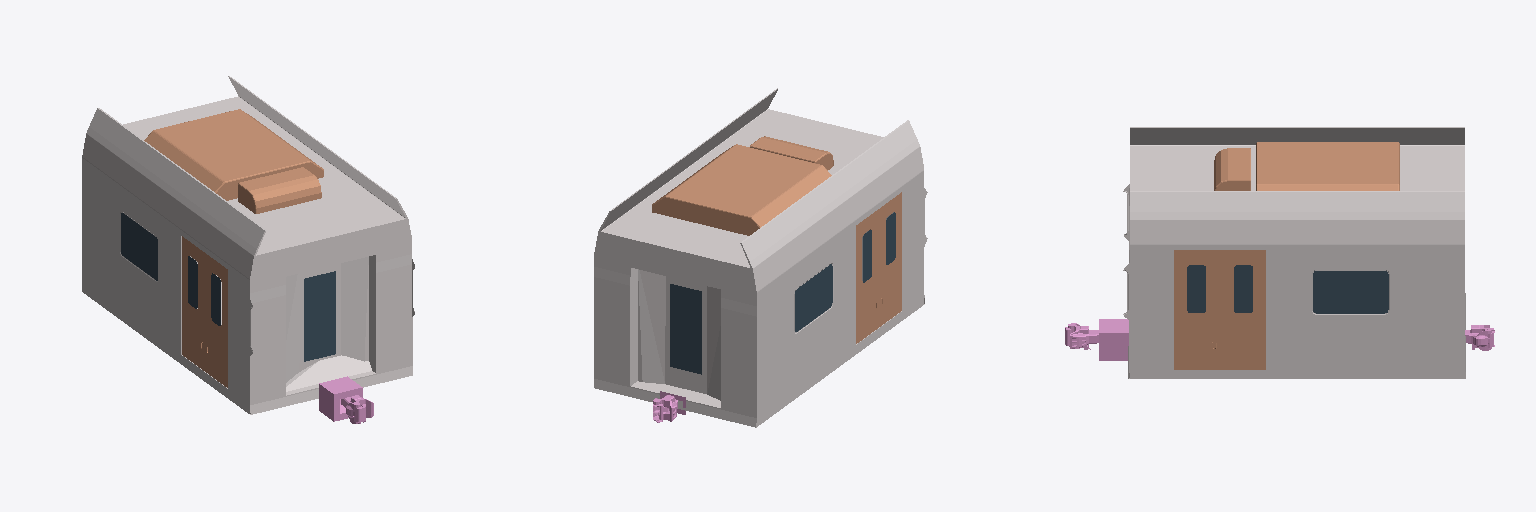
3 views of the same model, side by side, from view 1: azimuth 30°, elevation 25°; view 2: azimuth 150°, elevation 25°; view 3: azimuth 270°, elevation 25° (orthographic).
Parts seen in each view (by area): view 1: Vagon002, Vagon003, Puertas003, puertas_externas, Ventanas003, Ventanas002; view 2: Vagon002, Puertas003, Ventanas002, puertas_externas; view 3: Vagon002, Puertas002, Puertas003, Ventanas002, Vagon003.
Part boxes in pixels (x1,y1,x2,y2): Vagon002: (82, 76, 414, 413); Vagon003: (250, 198, 412, 423); Puertas003: (144, 109, 323, 213); puertas_externas: (182, 236, 227, 387); Ventanas003: (304, 271, 335, 361); Ventanas002: (121, 213, 220, 325); Vagon002: (594, 89, 927, 427); Puertas003: (652, 136, 833, 235); Ventanas002: (670, 212, 895, 374); puertas_externas: (856, 192, 901, 343); Vagon002: (1123, 127, 1494, 378); Puertas002: (1174, 250, 1265, 369); Puertas003: (1214, 142, 1399, 190); Ventanas002: (1187, 265, 1388, 313); Vagon003: (1065, 188, 1129, 378).
Bounding box in the file's own units: 45.53 × 51.69 × 104.
Materials: 4 (3 with a texture image).